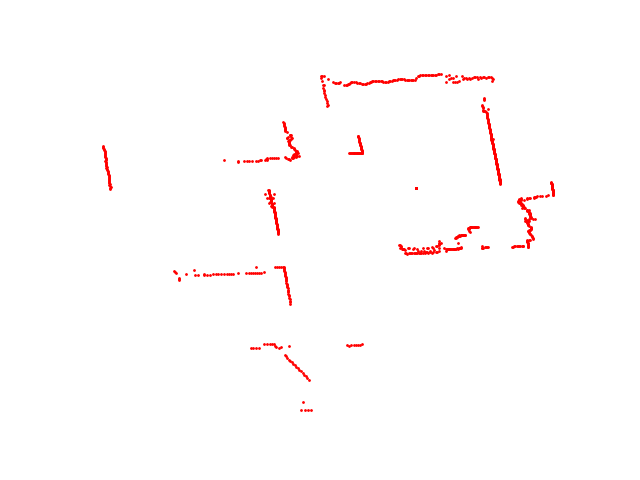person: (453, 223, 482, 241)
